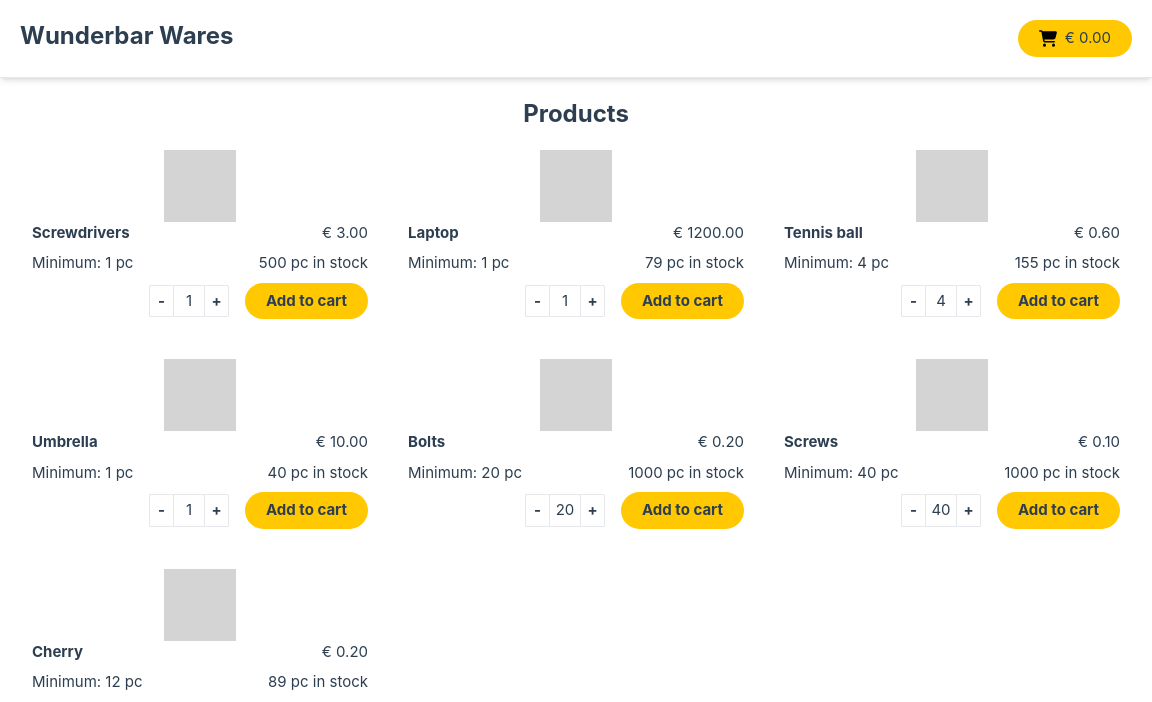
Test case: Cart › displays the item which has been added and its details
The width and height of the screenshot is (1152, 702).
Click the button "Add to cart" below "Minimum: 4 pc". click: (1059, 302)
box: [997,283,1120,320]
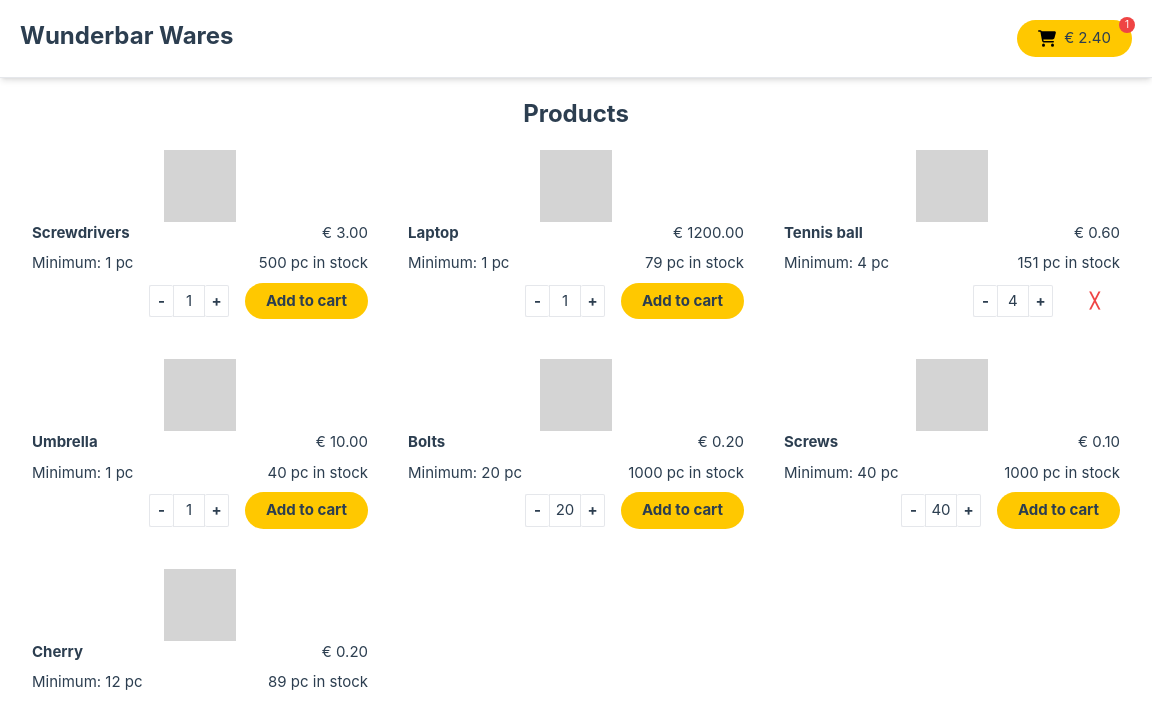
Click the button "Add to cart" below "79 pc in stock". click: (683, 302)
box: [621,283,744,320]
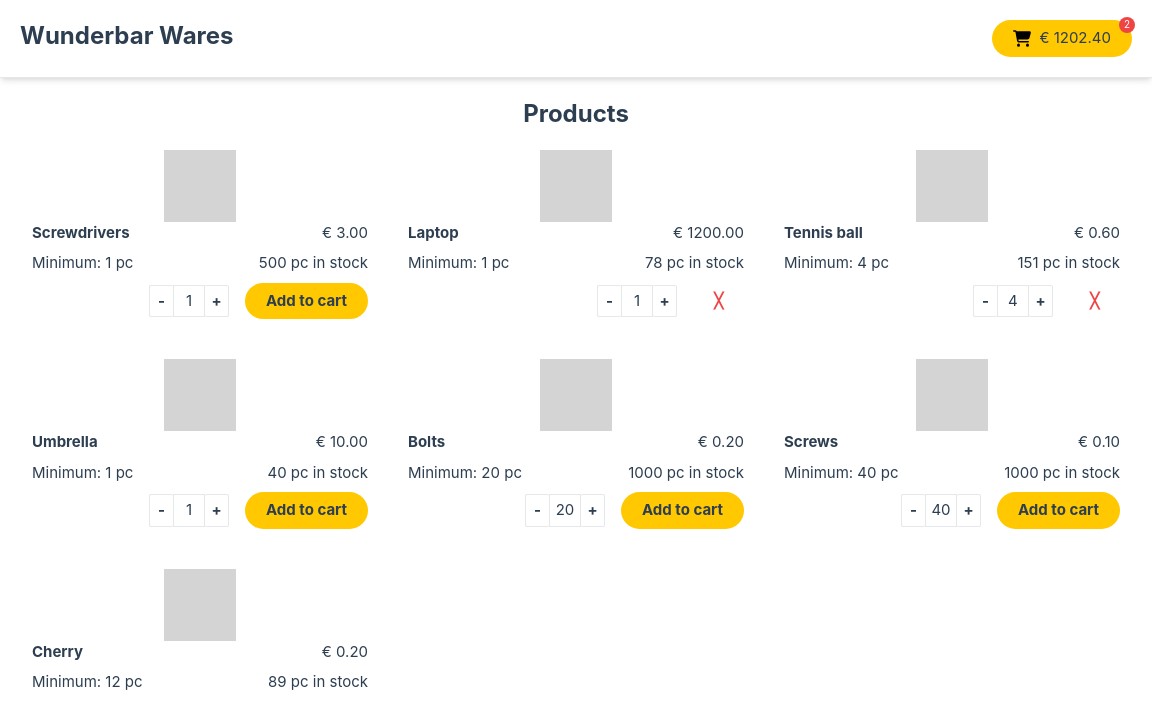
Open "/cart"
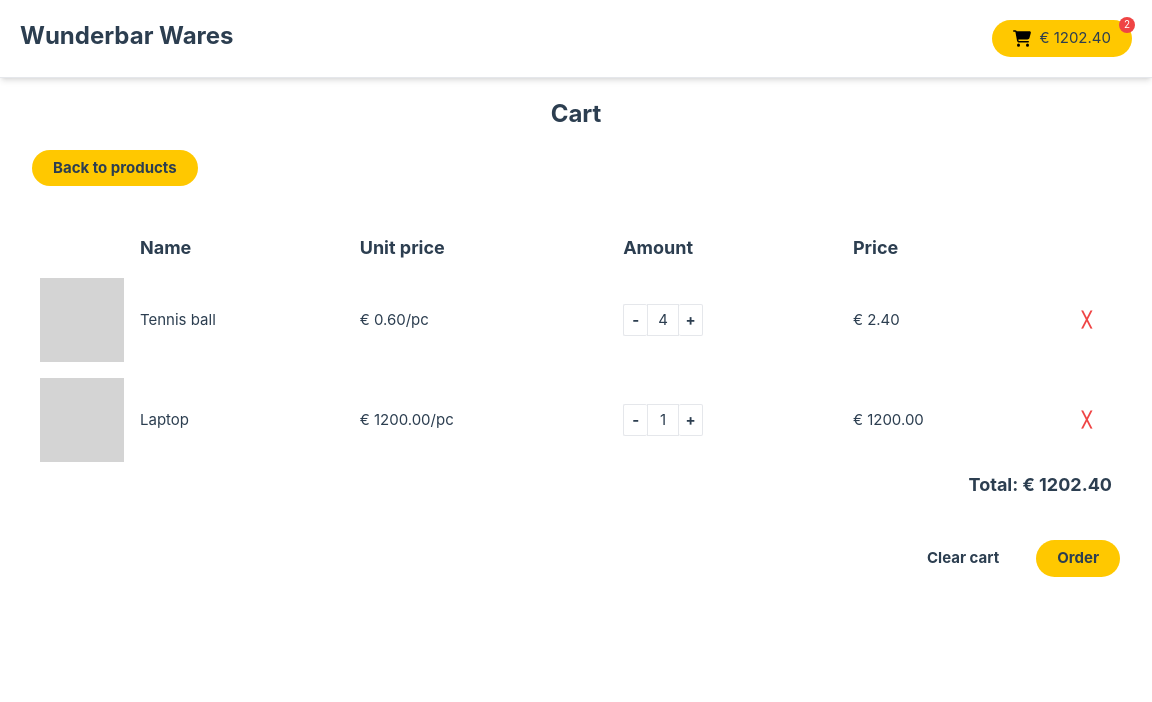
Now the column heading "Name" is shown, box [132,226,352,270]
Now the column heading "Unit price" is shown, box [352,226,615,270]
Now the column heading "Amount" is shown, box [615,226,845,270]
